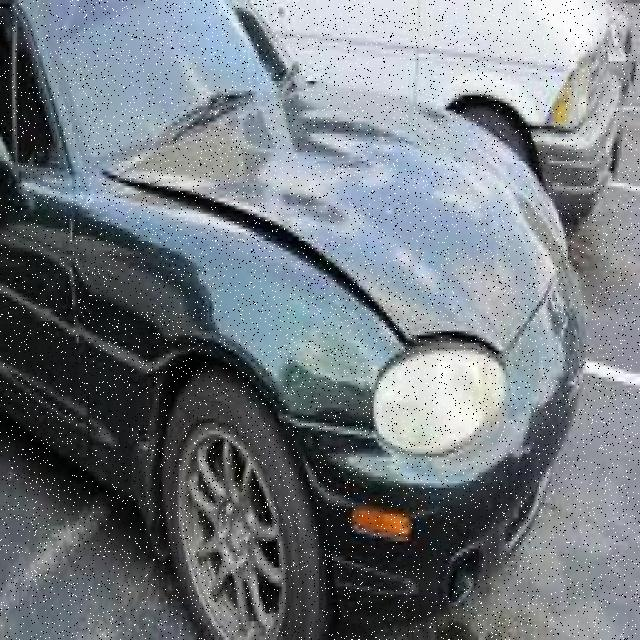damage: (93, 165, 506, 364)
